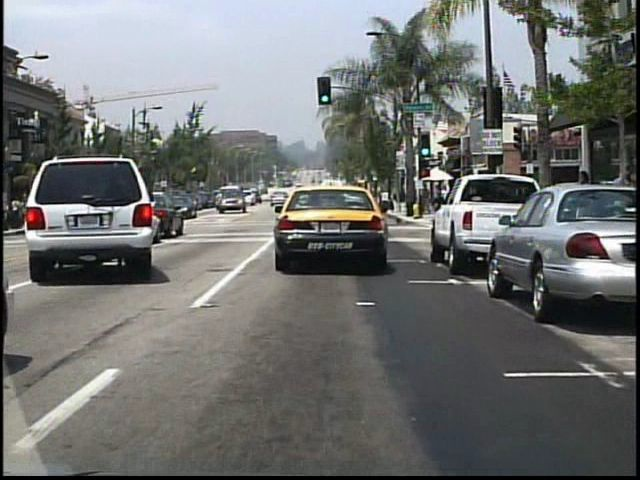person: (571, 168, 594, 244)
